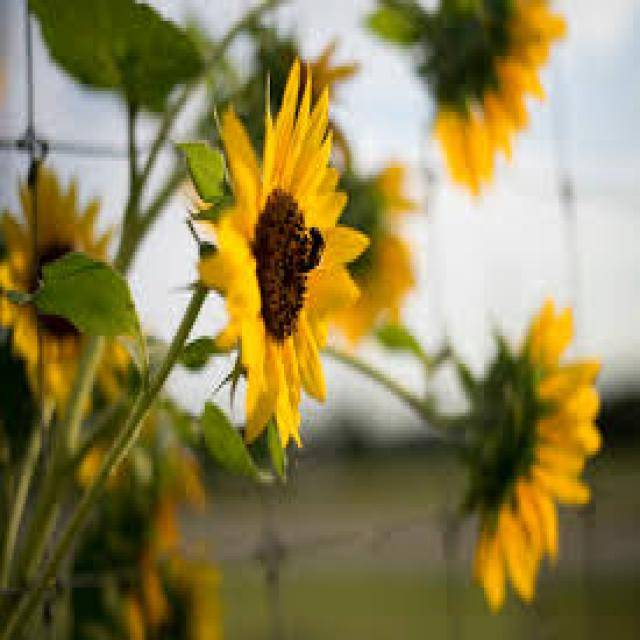sunflower: (188, 59, 366, 468), (457, 282, 609, 624)
